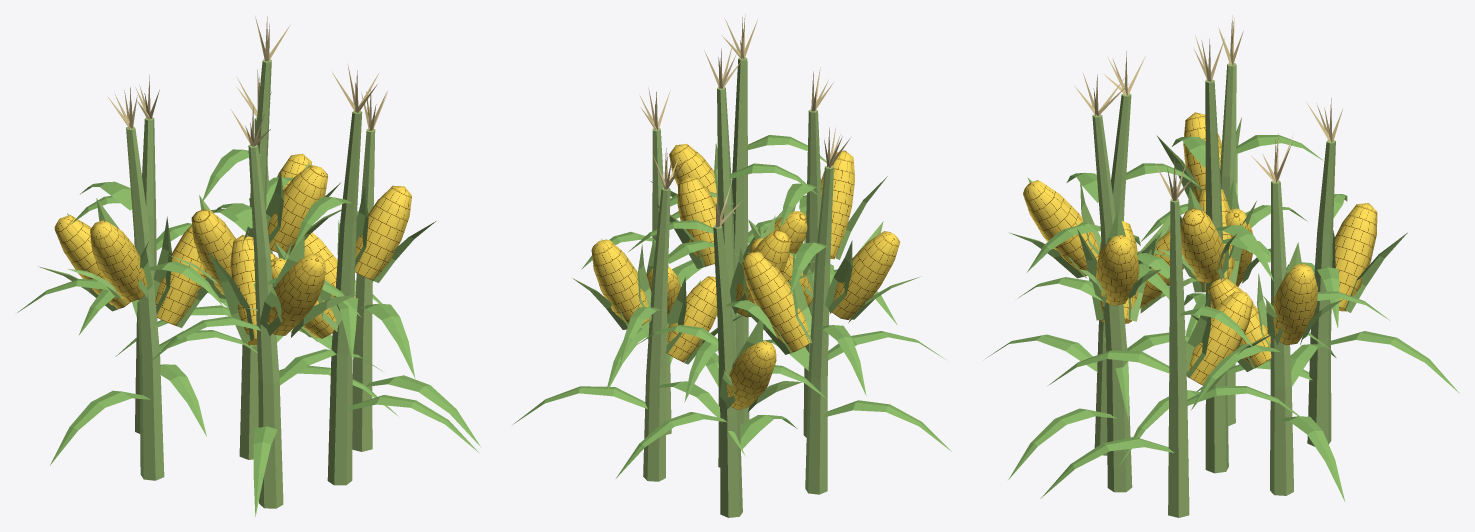
The model's file is cornField.glb.
3 views of the same model, side by side, from view 1: azimuth 30°, elevation 25°; view 2: azimuth 150°, elevation 25°; view 3: azimuth 270°, elevation 25° (orthographic). The views are drawn at different scales.
Parts seen in each view (by area): view 1: CornField; view 2: CornField; view 3: CornField.
Part boxes in pixels (<box>): CornField: <box>17,16,480,516</box>; CornField: <box>513,14,951,517</box>; CornField: <box>985,15,1459,517</box>.
Bounding box in the file's own units: 2.73 × 2.95 × 2.93.
5 materials, 1 textured.
